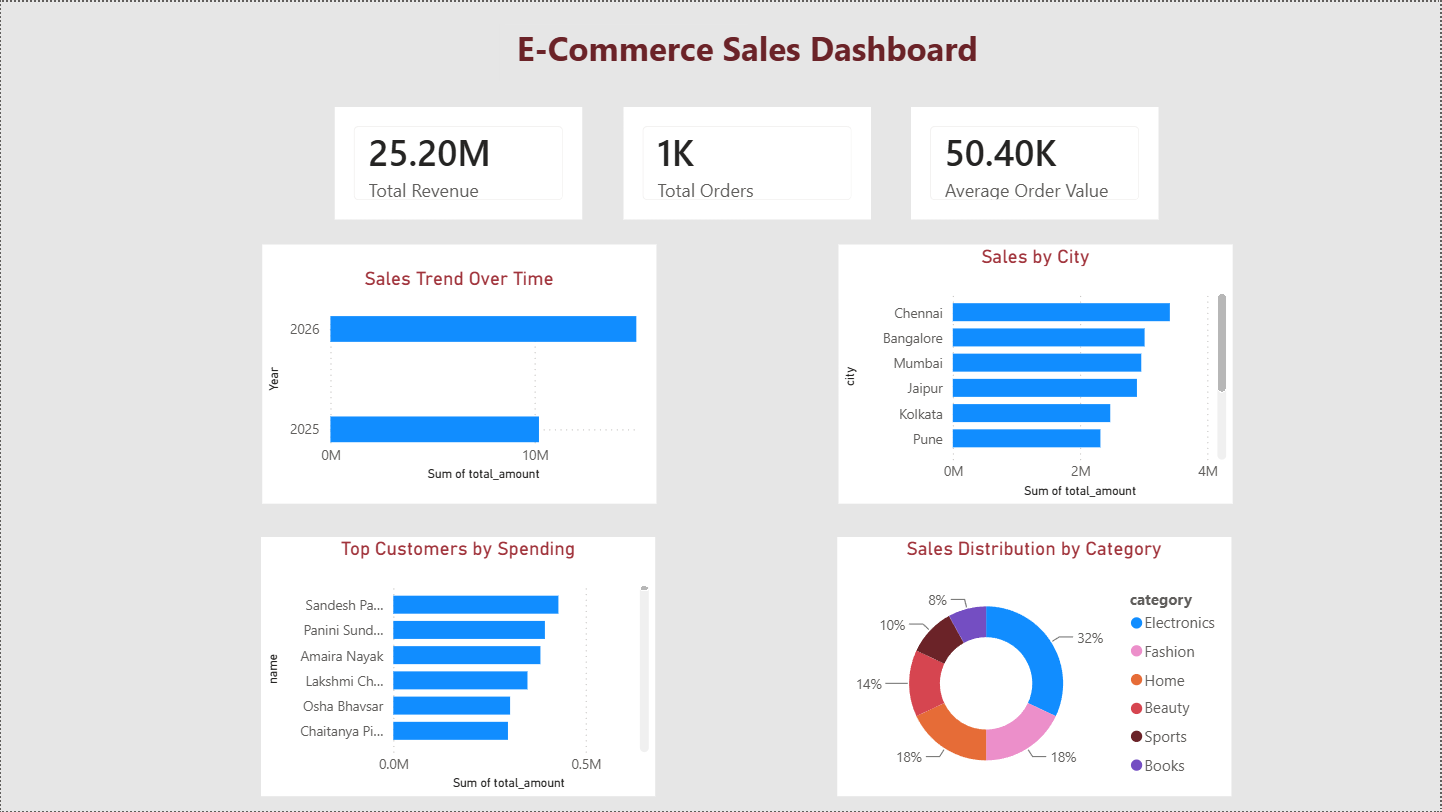

This screenshot's page, from the dashboard's own definition file:
{"tool":"powerbi","page":{"name":"Page 1","canvas":[1280,720],"ordinal":0},"visuals":[{"type":"clusteredBarChart","title":"Sales by City","fields":{"Category":["public customers.city"],"Y":["Sum(public orders.total_amount)"]},"box":[744.4,215.6,350,230],"z":0},{"type":"clusteredBarChart","title":"Top Customers by Spending","fields":{"Category":["public customers.name"],"Y":["Sum(public orders.total_amount)"]},"box":[231.1,475.6,350,230],"z":1000},{"type":"clusteredBarChart","title":"Sales Trend Over Time","fields":{"Category":["public orders.order_date.Variation.Date Hierarchy.Year","public orders.order_date.Variation.Date Hierarchy.Quarter","public orders.order_date.Variation.Date Hierarchy.Month","public orders.order_date.Variation.Date Hierarchy.Day"],"Y":["Sum(public orders.total_amount)"]},"box":[232.2,215.6,350,230],"z":2000},{"type":"donutChart","title":"Sales Distribution by Category","fields":{"Category":["public products.category"],"Y":["CountNonNull(public products.product_id)"]},"box":[743.3,475.6,350,230],"z":3000},{"type":"cardVisual","fields":{"Data":["Sum(public orders.total_amount)"]},"box":[296.7,93.3,220,100],"z":4000},{"type":"textbox","title":"E-Commerce Sales Dashboard","box":[443.3,20,440,50],"z":5000},{"type":"cardVisual","fields":{"Data":["public orders.Total Orders"]},"box":[553.3,93.3,220,100],"z":6000},{"type":"cardVisual","fields":{"Data":["public orders.average order value"]},"box":[808.3,93.3,220,100],"z":7000}]}

Visuals, with their boxes in screenshot pixels (x1, y1, x2, y2), scaled from the page's 1280x720 canvas onto the 1442x812 screenshot:
"Sales by City" clusteredBarChart: l=839, t=243, r=1233, b=503
"Top Customers by Spending" clusteredBarChart: l=260, t=536, r=655, b=796
"Sales Trend Over Time" clusteredBarChart: l=262, t=243, r=656, b=503
"Sales Distribution by Category" donutChart: l=837, t=536, r=1232, b=796
cardVisual - Sum(public orders.total_amount): l=334, t=105, r=582, b=218
"E-Commerce Sales Dashboard" textbox: l=499, t=23, r=995, b=79
cardVisual - public orders.Total Orders: l=623, t=105, r=871, b=218
cardVisual - public orders.average order value: l=911, t=105, r=1158, b=218
